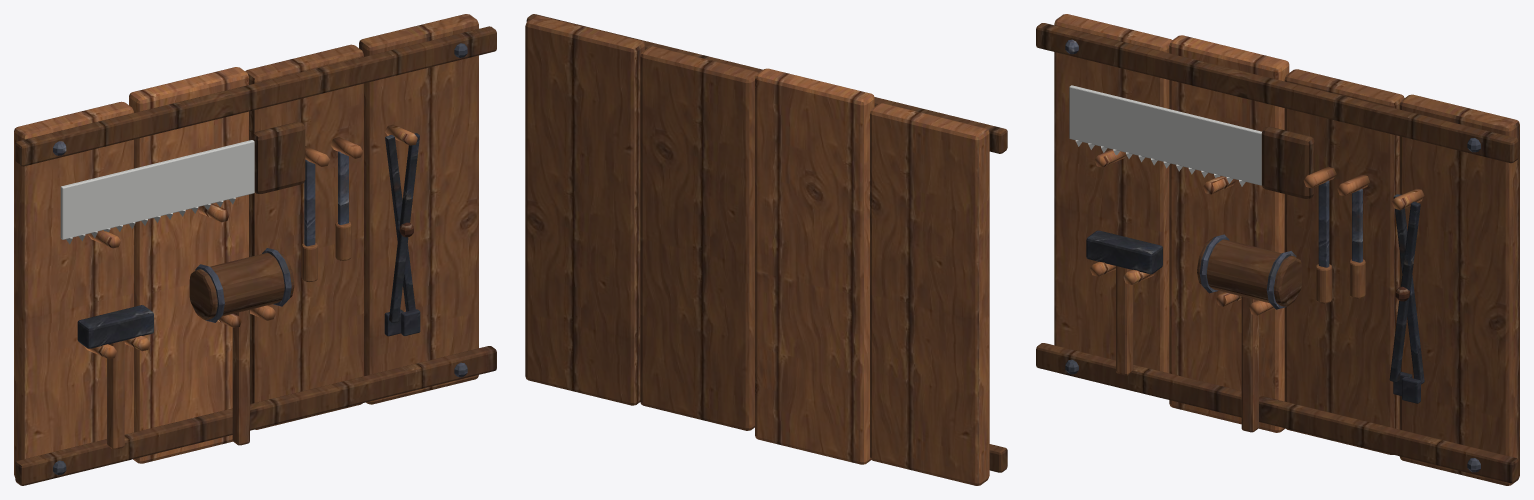
The model's file is tool_wall.glb.
3 renders of one model, left to right at view 1: azimuth 30°, elevation 25°; view 2: azimuth 150°, elevation 25°; view 3: azimuth 330°, elevation 25°, orthographic.
Visible parts, largest first — view 1: model; view 2: model; view 3: model.
Part boxes in pixels (x1,y1,x2,y2): model: [14, 14, 496, 485]; model: [525, 14, 1007, 485]; model: [1036, 14, 1519, 485].
Bounding box in the file's own units: 1.14 × 0.8371 × 0.153.
8 materials, 7 textured.
